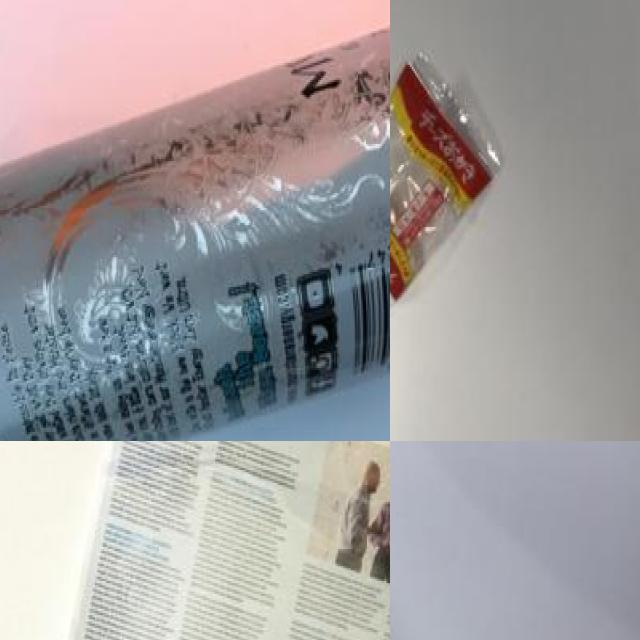paper: (43, 441, 390, 640)
plastic: (0, 0, 390, 441), (390, 441, 520, 640)
trash: (390, 19, 521, 318)
